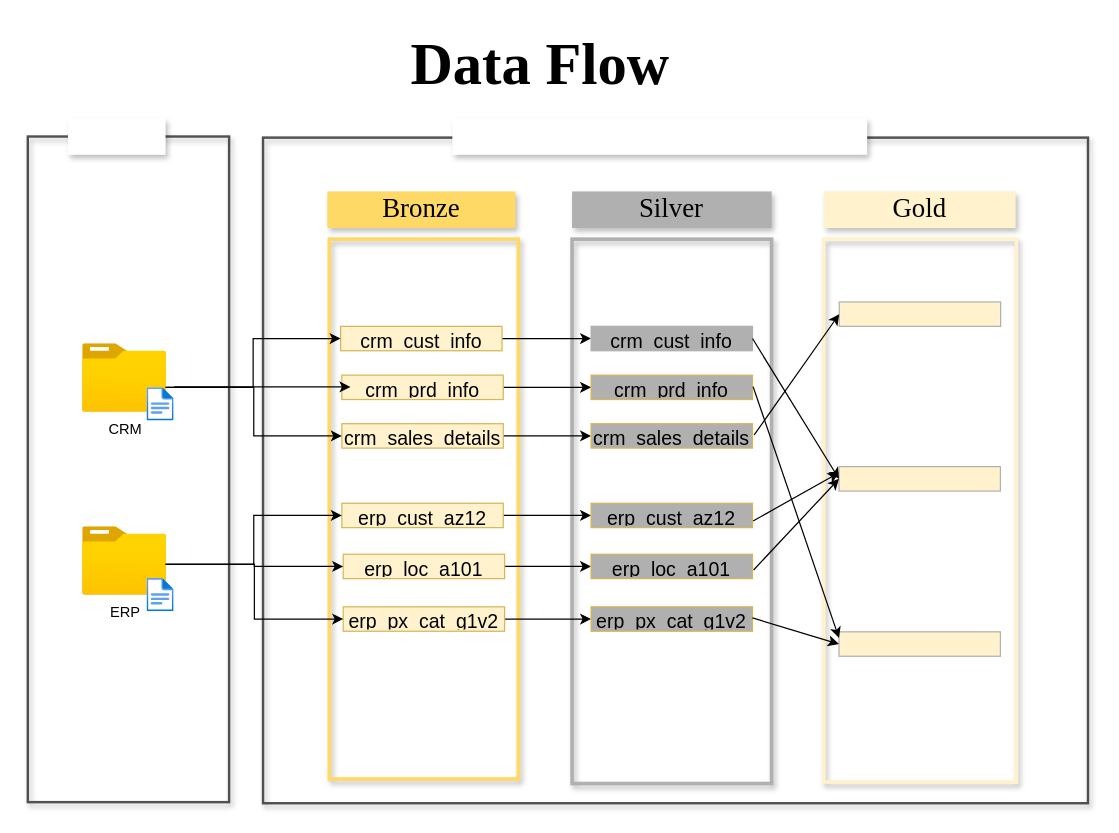
This 1119x833 diagram has some shape labels left out. The shapes that lost their labels are listed below. From the top down, each one's centre as x and y in pixels, then its label:
At (x=117, y=138): "Sources".
At (x=660, y=138): "Data Warehouse".
At (x=919, y=313): "fact_sales".
At (x=919, y=478): "dim_customers".
At (x=919, y=643): "dim_product".
